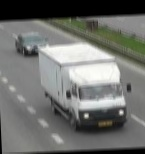truck: (37, 41, 127, 132)
